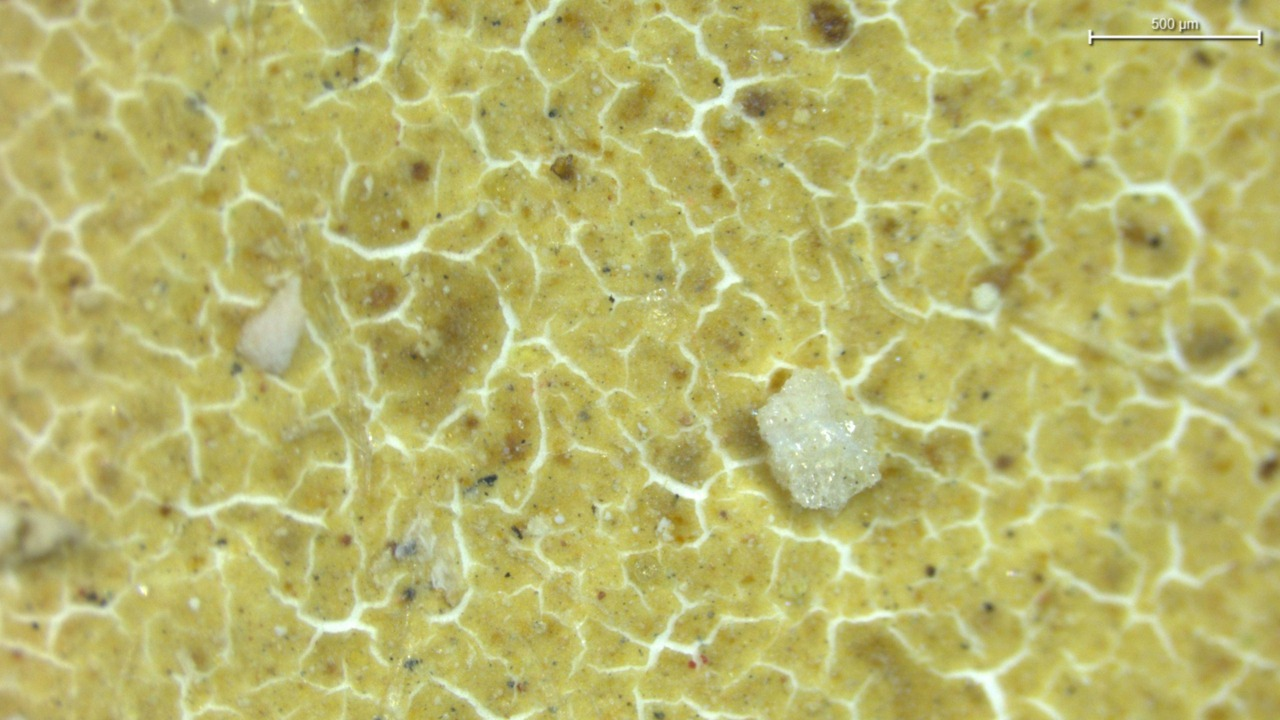microplastic_fragment: (756, 369, 882, 510), (236, 274, 306, 376)
